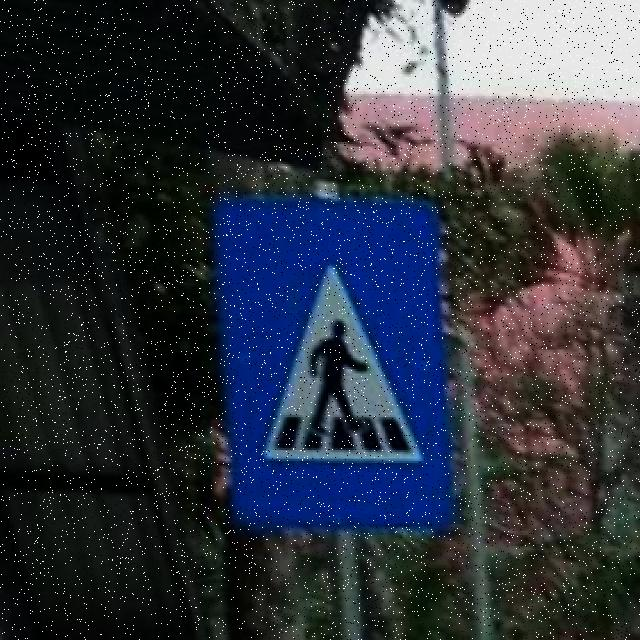Przejscie dla pieszych: (214, 201, 453, 525)
